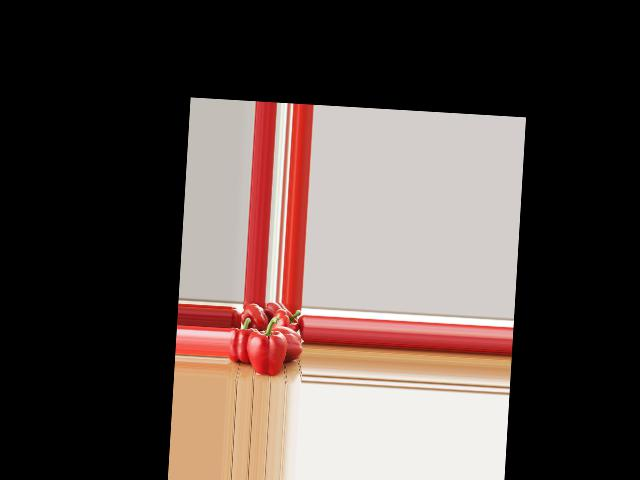bell_pepper: (272, 307, 302, 333)
